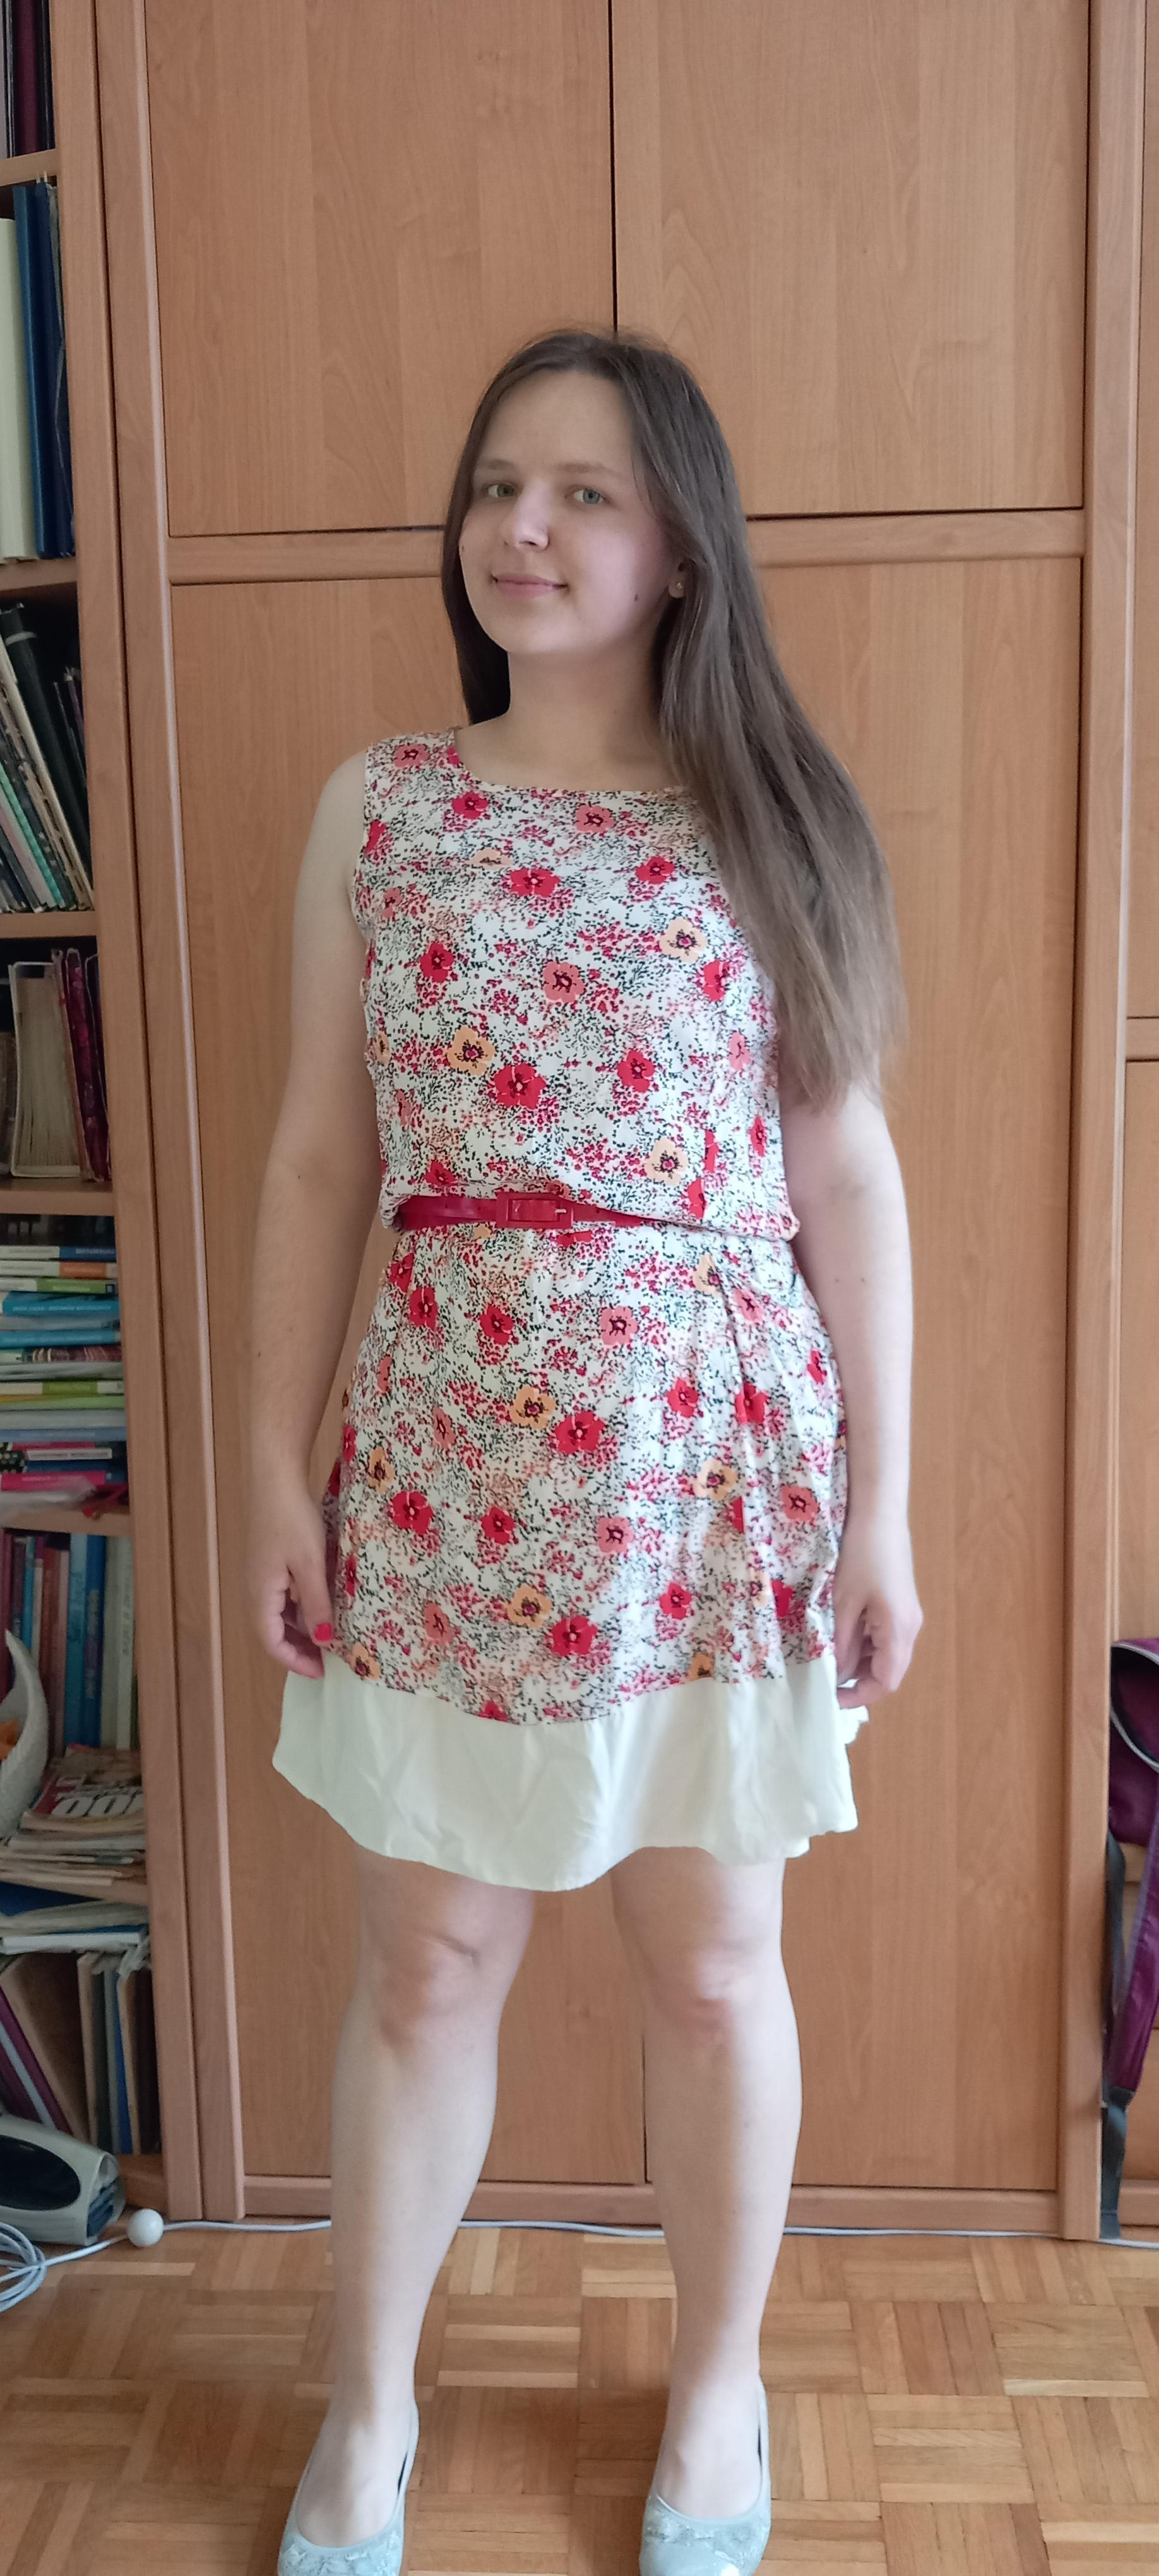dress: (269, 731, 875, 1894)
